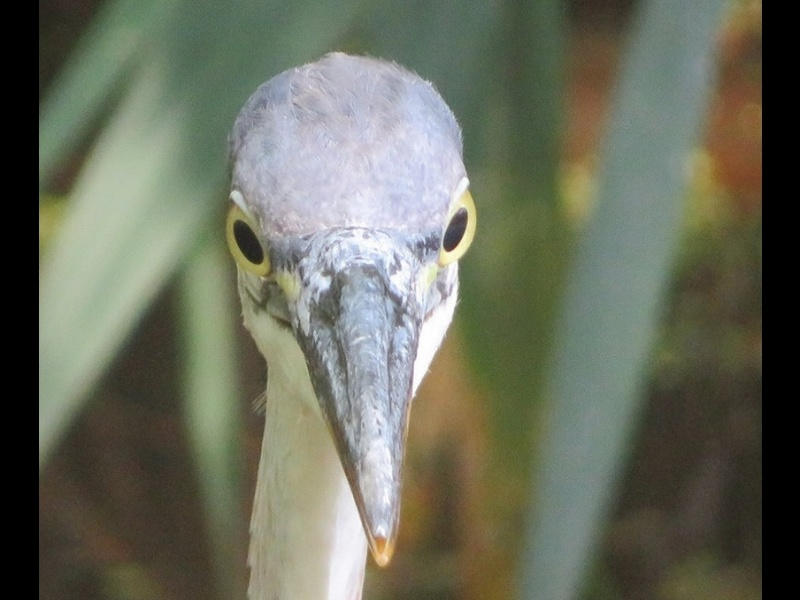heron: (222, 50, 482, 598)
